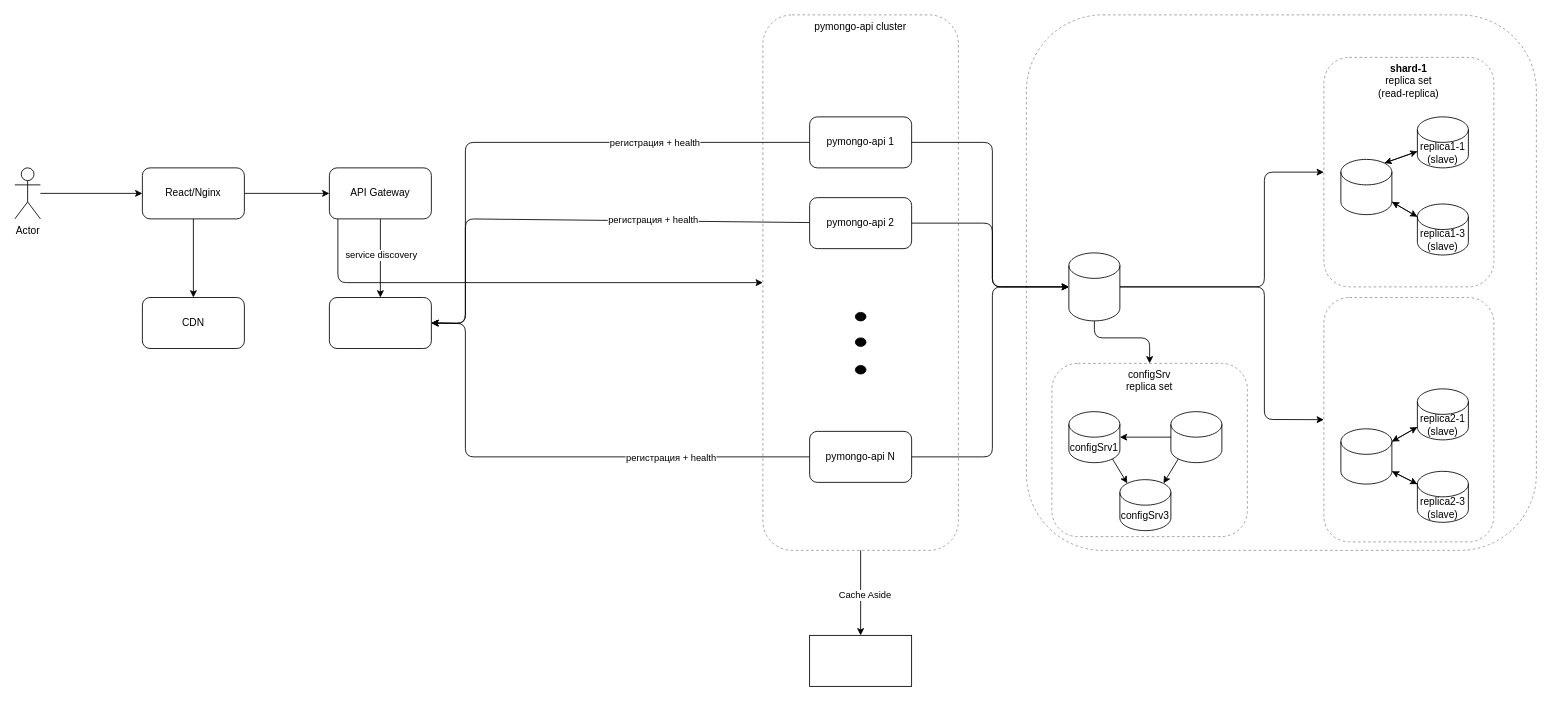
Image size: 1551x701. Some labels were removed from this diagram. Each missing label, with the box of its shape:
configSrv2: (1170, 411, 1222, 463)
Consul: (329, 297, 431, 348)
MongoDB cluster: (1026, 14, 1536, 550)
mongos: (1068, 252, 1120, 321)
Redis (cache): (809, 635, 912, 686)
replica1 -2 (master): (1340, 159, 1392, 215)
replica2 -2 (master): (1340, 428, 1392, 484)
shard-2 replica set (read-replica): (1323, 297, 1494, 542)
